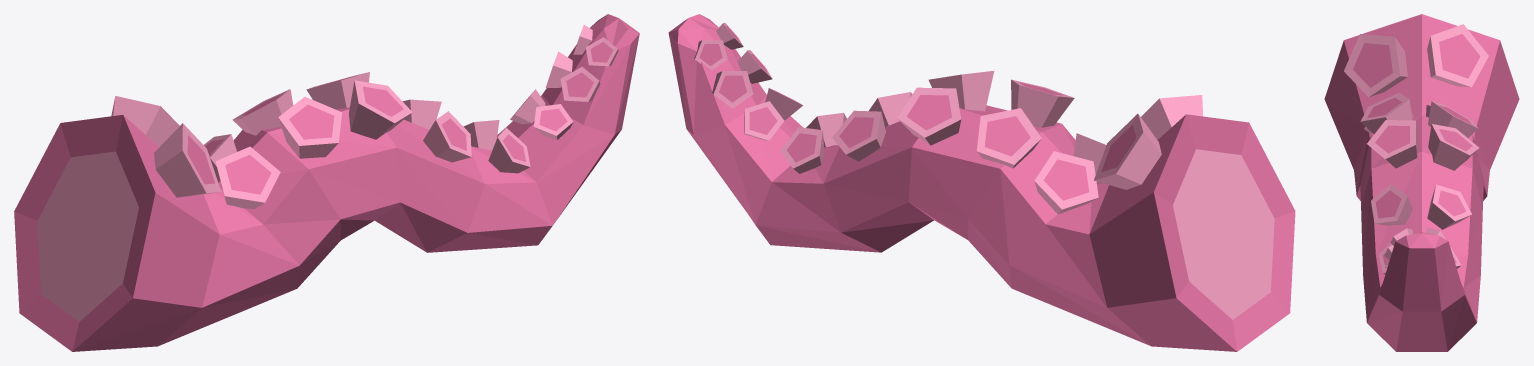
Rendered from Tentacle.obj.
3 renders of one model, left to right at view 1: azimuth 30°, elevation 25°; view 2: azimuth 150°, elevation 25°; view 3: azimuth 270°, elevation 25°, orthographic. The views are drawn at different scales.
Parts seen in each view (by area): view 1: Tentacle_PalePink2, Tentacle_PalePink; view 2: Tentacle_PalePink2, Tentacle_PalePink; view 3: Tentacle_PalePink2, Tentacle_PalePink.
Part boxes in pixels (box(x1,y1,x2,y2)): Tentacle_PalePink2: box(14, 14, 639, 351); Tentacle_PalePink: box(37, 25, 618, 321); Tentacle_PalePink2: box(668, 14, 1295, 351); Tentacle_PalePink: box(694, 23, 1274, 319); Tentacle_PalePink2: box(1324, 14, 1519, 351); Tentacle_PalePink: box(1344, 24, 1488, 274).
Bounding box in the file's own units: 0.762 × 0.2757 × 0.2673.
